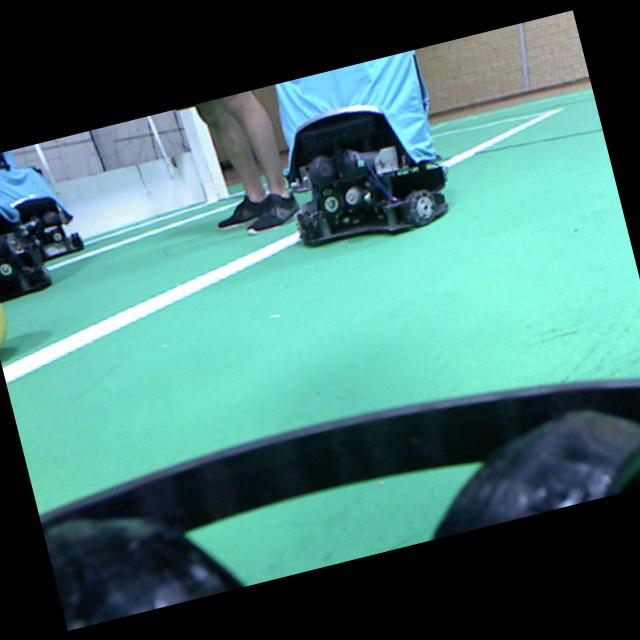goal: (196, 115, 228, 198)
